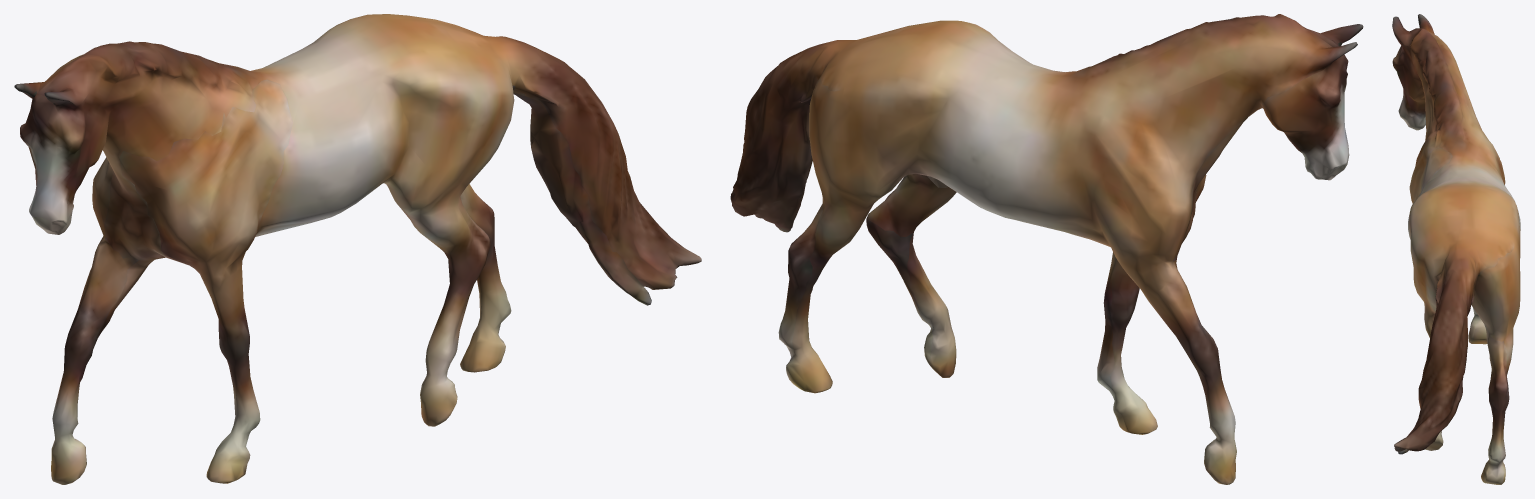
Rendered from Breyer_Horse_Of_The_Year_2015-high.glb.
The picture shows the model from 3 angles, left to right: view 1: azimuth 30°, elevation 25°; view 2: azimuth 150°, elevation 25°; view 3: azimuth 270°, elevation 25°; orthographic projection. The views are drawn at different scales.
Visible parts, largest first — view 1: Breyer_Horse_Of_The_Year_2015; view 2: Breyer_Horse_Of_The_Year_2015; view 3: Breyer_Horse_Of_The_Year_2015.
Part boxes in pixels (box(x1,y1,x2,y2)): Breyer_Horse_Of_The_Year_2015: box(14, 14, 701, 484); Breyer_Horse_Of_The_Year_2015: box(730, 14, 1363, 484); Breyer_Horse_Of_The_Year_2015: box(1392, 14, 1520, 484).
Bounding box in the file's own units: 0.2311 × 0.1532 × 0.0577.
1 material, 1 textured.
